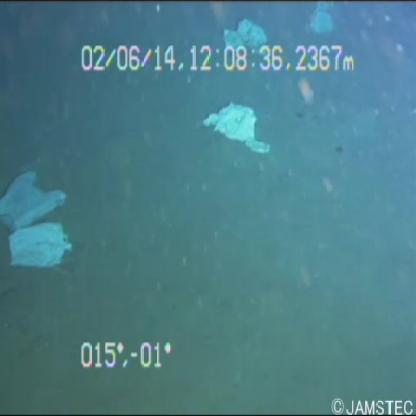Rác: (1, 165, 74, 287), (192, 91, 278, 162), (211, 14, 273, 58)
